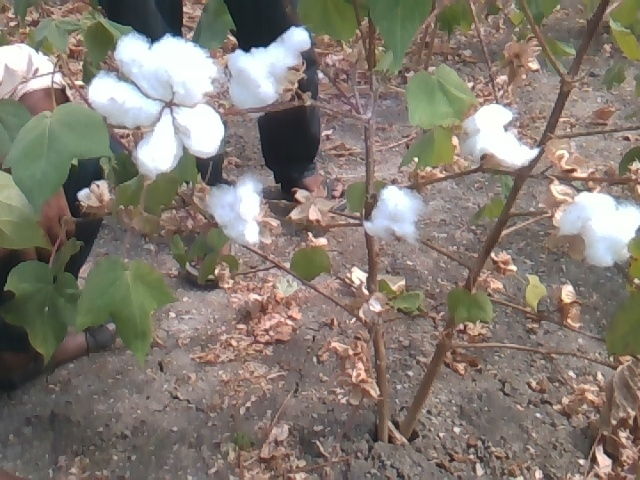cotton: (93, 37, 221, 168), (224, 27, 305, 111), (558, 193, 638, 269), (463, 105, 538, 166), (205, 178, 259, 245), (362, 186, 421, 245)
